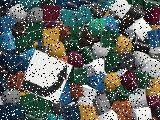Left: (19, 49, 72, 104)
